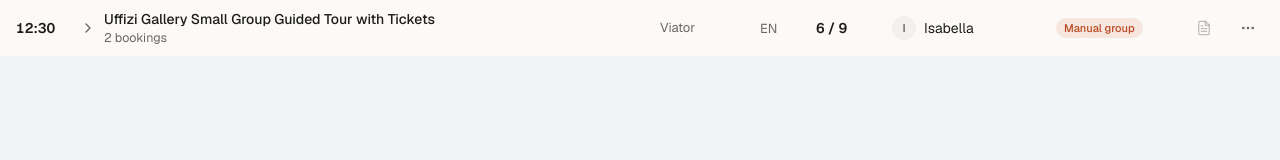
Test: group header and member rows (step 6.16) › desktop: header shows 12:30, the 14:30 booking says "booked 14:30"
The image size is (1280, 160).
Expected: the text "12:30" is shown, [16, 19, 55, 37]
Expected: the text "14:30" is not shown
Click the text "Uffizi Gallery Small Group Guided Tour with Tickets": click(270, 19) [104, 9, 435, 29]
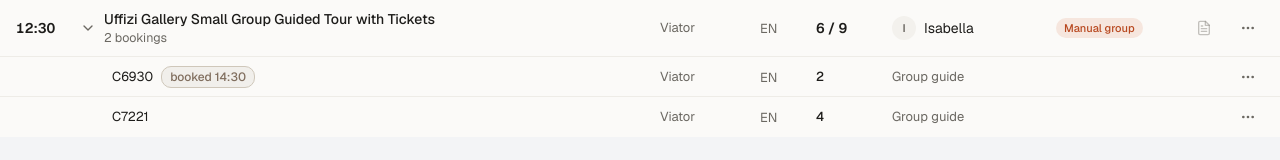
Expected: the number of elements with test id "booked-time-chip" is 1, [161, 66, 255, 88]
Expected: the text with test id "booked-time-chip" reads "booked 14:30", [161, 66, 255, 88]
